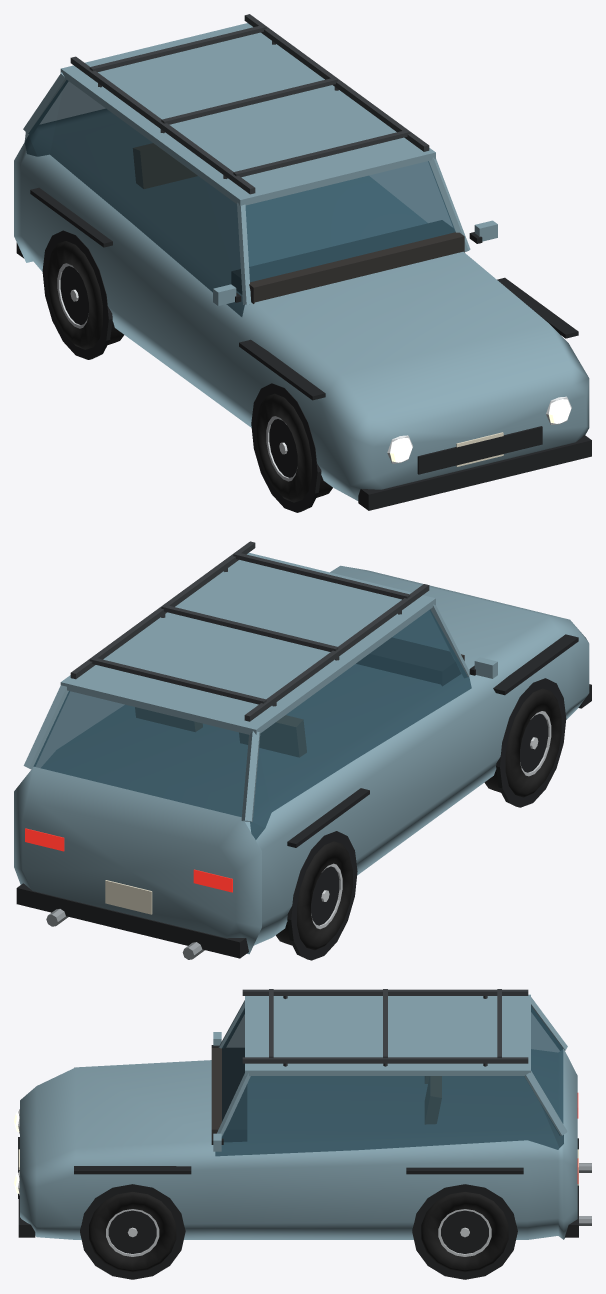
File: aspen-suv.glb
3 renders of one model, top to bottom at view 1: azimuth 30°, elevation 25°; view 2: azimuth 150°, elevation 25°; view 3: azimuth 270°, elevation 25°, orthographic. The views are drawn at different scales.
Parts seen in each view (by area): view 1: body, wheel_FR, wheel_RR; view 2: body, wheel_FR, wheel_RR, plate_R, taillight_R, taillight_L; view 3: body, wheel_FL, wheel_RL.
Boxes of the visible parts, x1,y1,x2,y2 form: body: [14, 14, 591, 512]; wheel_FR: [256, 393, 332, 502]; wheel_RR: [47, 241, 123, 349]; body: [14, 541, 591, 960]; wheel_FR: [484, 688, 561, 797]; wheel_RR: [276, 841, 352, 950]; plate_R: [105, 880, 152, 914]; taillight_R: [193, 869, 232, 892]; taillight_L: [25, 828, 64, 851]; body: [18, 989, 578, 1279]; wheel_FL: [89, 1192, 176, 1272]; wheel_RL: [421, 1192, 508, 1272].
Bounding box in the file's own units: 2.17 × 1.94 × 4.87.
